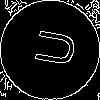U: (25, 25, 77, 69)
